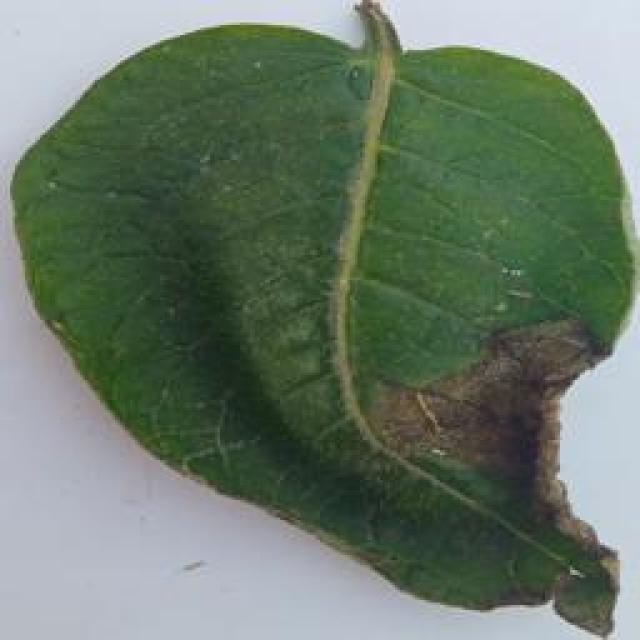Potato_Late_Blight: (9, 11, 628, 636)
